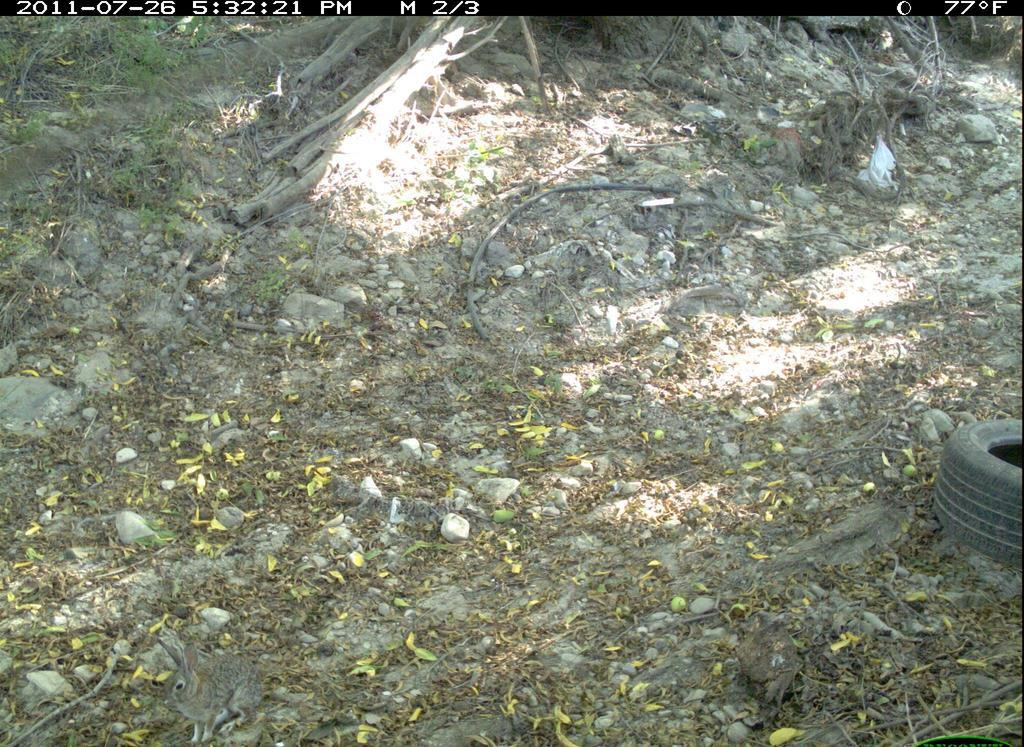rabbit: (133, 613, 298, 747)
